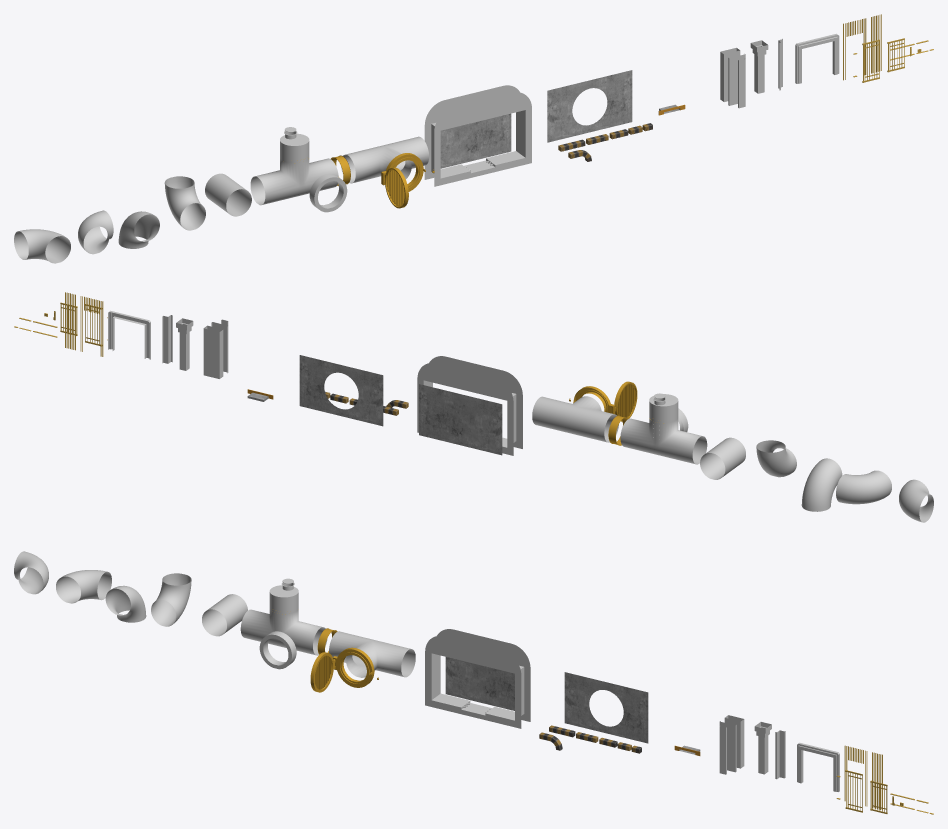
Rendered from Sewerage_Common.fbx.
3 renders of one model, top to bottom at view 1: azimuth 30°, elevation 25°; view 2: azimuth 150°, elevation 25°; view 3: azimuth 330°, elevation 25°, orthographic.
Visible parts, largest first — view 1: SW_Modules_Transition_Tile, SW_Modules_Transition_Tile_Cap_Pipe_Drain, SW_Modules_Transition_Tile_Cap, SW_Pipe_T_Up, SW_Pipe_T, SW_Pipe_Curved_Left, SW_Pipe_Curved_Up, SW_Pipe_Straight, SW_Pipe_Curved_Down, SW_Pipe_Curved_Right, SW_Room_Big_Door_Deco, SW_Pipe_Water_Exit (+8 smaller); view 2: SW_Modules_Transition_Tile_Cap, SW_Modules_Transition_Tile, SW_Modules_Transition_Tile_Cap_Pipe_Drain, SW_Pipe_T_Up, SW_Pipe_T, SW_Pipe_Curved_Right, SW_Pipe_Curved_Down, SW_Pipe_Straight, SW_Pipe_Curved_Up, SW_Pipe_Curved_Left, SW_Column_1, SW_Room_Big_Door_Deco (+6 smaller); view 3: SW_Modules_Transition_Tile, SW_Modules_Transition_Tile_Cap_Pipe_Drain, SW_Modules_Transition_Tile_Cap, SW_Pipe_T, SW_Pipe_T_Up, SW_Pipe_Curved_Up, SW_Pipe_Curved_Right, SW_Pipe_Straight, SW_Pipe_Curved_Down, SW_Pipe_Curved_Left, SW_Pipe_Shutter_Cap, SW_Room_Big_Door_Deco (+6 smaller).
Boxes of the visible parts, bbox=[...] form: SW_Modules_Transition_Tile: bbox=[424, 85, 531, 186]; SW_Modules_Transition_Tile_Cap_Pipe_Drain: bbox=[547, 70, 632, 142]; SW_Modules_Transition_Tile_Cap: bbox=[440, 113, 511, 168]; SW_Pipe_T_Up: bbox=[250, 158, 338, 205]; SW_Pipe_T: bbox=[341, 136, 428, 183]; SW_Pipe_Curved_Left: bbox=[14, 229, 70, 263]; SW_Pipe_Curved_Up: bbox=[164, 176, 205, 230]; SW_Pipe_Straight: bbox=[205, 173, 251, 216]; SW_Pipe_Curved_Down: bbox=[118, 211, 159, 248]; SW_Pipe_Curved_Right: bbox=[78, 210, 113, 254]; SW_Room_Big_Door_Deco: bbox=[795, 33, 839, 83]; SW_Pipe_Water_Exit: bbox=[309, 173, 347, 212]; SW_Modules_Transition_Tile_Cap: bbox=[419, 384, 502, 455]; SW_Modules_Transition_Tile: bbox=[417, 356, 522, 455]; SW_Modules_Transition_Tile_Cap_Pipe_Drain: bbox=[299, 355, 383, 426]; SW_Pipe_T_Up: bbox=[620, 418, 707, 464]; SW_Pipe_T: bbox=[532, 396, 618, 442]; SW_Pipe_Curved_Right: bbox=[836, 470, 891, 504]; SW_Pipe_Curved_Down: bbox=[801, 458, 842, 511]; SW_Pipe_Straight: bbox=[700, 437, 745, 479]; SW_Pipe_Curved_Up: bbox=[756, 440, 796, 477]; SW_Pipe_Curved_Left: bbox=[899, 479, 933, 522]; SW_Column_1: bbox=[203, 325, 223, 378]; SW_Room_Big_Door_Deco: bbox=[108, 310, 150, 359]; SW_Modules_Transition_Tile: bbox=[425, 629, 530, 728]; SW_Modules_Transition_Tile_Cap_Pipe_Drain: bbox=[564, 672, 648, 743]; SW_Modules_Transition_Tile_Cap: bbox=[445, 657, 514, 710]; SW_Pipe_T: bbox=[329, 631, 415, 677]; SW_Pipe_T_Up: bbox=[240, 609, 327, 655]; SW_Pipe_Curved_Up: bbox=[151, 573, 191, 626]; SW_Pipe_Curved_Right: bbox=[56, 570, 111, 603]; SW_Pipe_Straight: bbox=[202, 594, 247, 636]; SW_Pipe_Curved_Down: bbox=[105, 585, 146, 622]; SW_Pipe_Curved_Left: bbox=[14, 551, 48, 594]; SW_Pipe_Shutter_Cap: bbox=[333, 647, 374, 687]; SW_Room_Big_Door_Deco: bbox=[797, 742, 839, 791].
Size of what is drawn, in the model's own units: 11281 by 1090 by 1344.
